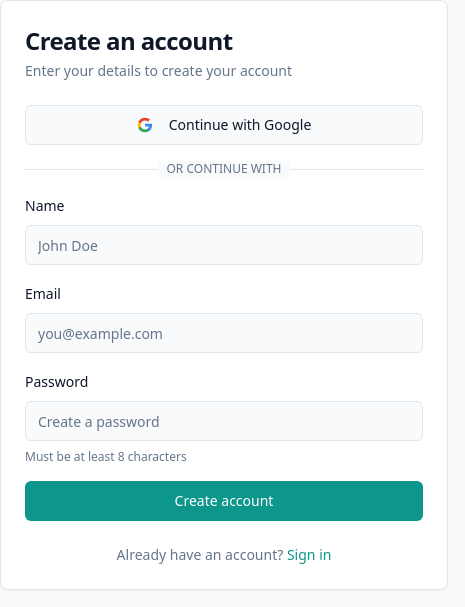
Scenario: SignUpForm › disables inputs while loading
This screenshot has width=465, height=607.
Type "John" into the field labelled "Name".
click(224, 245); type("John")  # box [25,225,423,265]
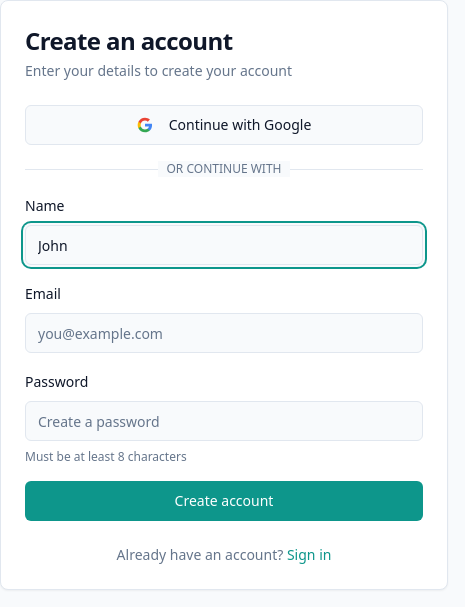
Type "john@test.com" into the field labelled "Email".
click(224, 333); type("john@test.com")  # box [25,313,423,353]
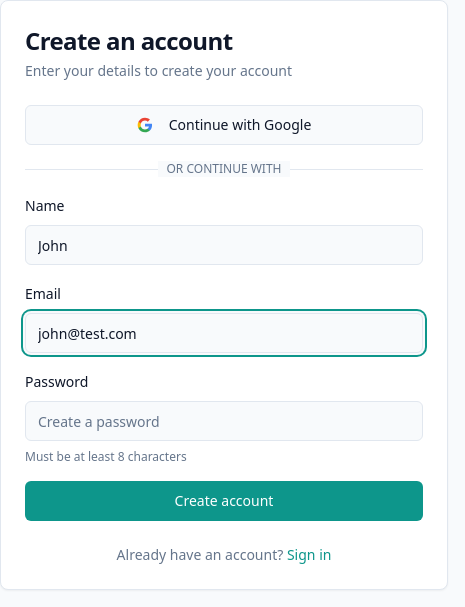
Type "password123" into the password field labelled "Password".
click(224, 421); type("password123")  # box [25,401,423,441]
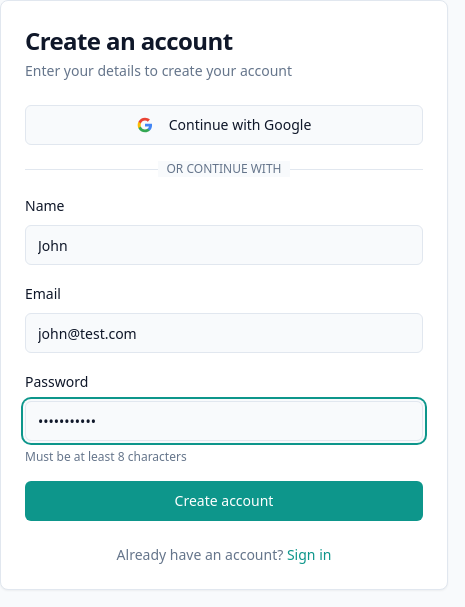
Click the button "Create account".
click(224, 501)  # box [25,481,423,521]
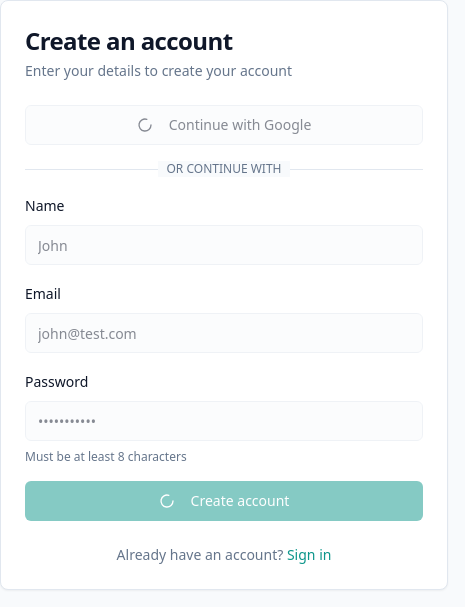
Check: the field labelled "Name" is disabled, box [25,225,423,265]
Check: the field labelled "Email" is disabled, box [25,313,423,353]
Check: the password field labelled "Password" is disabled, box [25,401,423,441]
